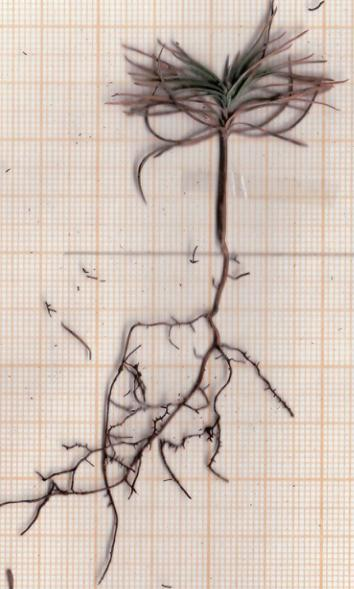flower: (109, 3, 353, 198)
root: (0, 244, 295, 588)
stem: (212, 138, 232, 246)
